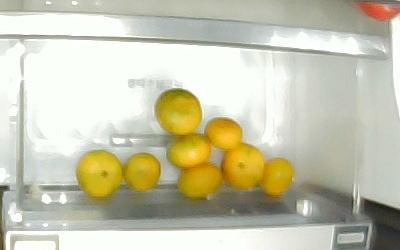tangerine: (152, 87, 202, 136), (76, 150, 123, 198), (221, 143, 264, 190), (177, 162, 223, 198), (166, 132, 212, 167), (123, 152, 161, 191), (260, 157, 294, 196), (204, 118, 242, 149)
